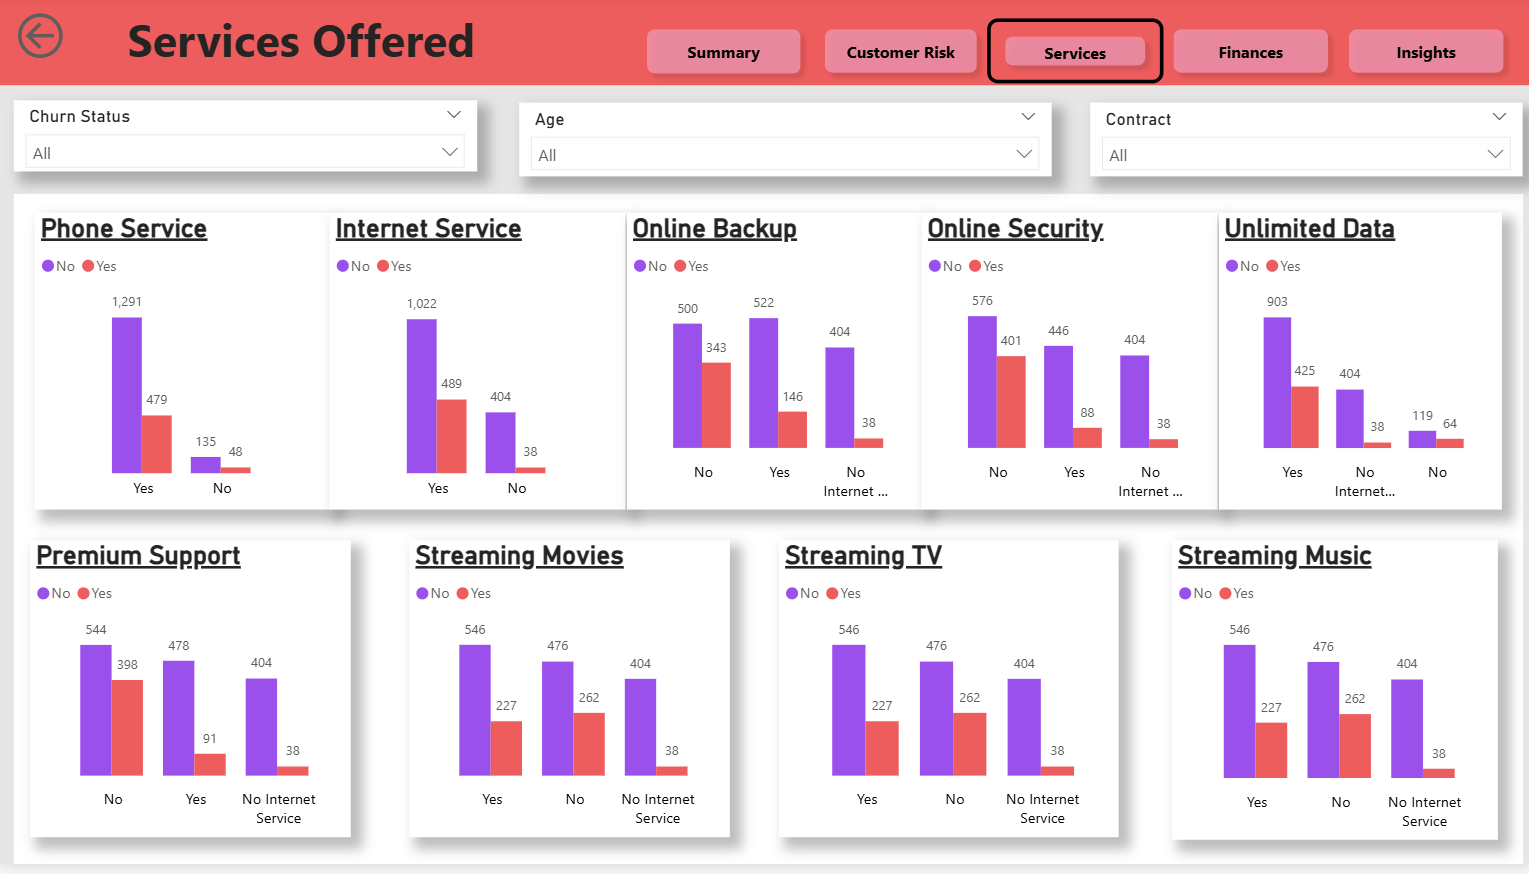

The dashboard page shown, as its layout file describes it:
{"tool":"powerbi","page":{"name":"Services","canvas":[1280,720],"ordinal":4},"visuals":[{"type":"shape","box":[15.5,165.2,1251.3,555.9],"z":0},{"type":"shape","box":[0,0,1280.4,74.9],"z":1000},{"type":"clusteredColumnChart","title":"Phone Service","fields":{"Category":["telecom cleaned_data.Phone_Service"],"Y":["Measures (2).Total Customer"],"Series":["telecom cleaned_data.Customer_Status"]},"box":[32.3,182.1,245.3,246.1],"z":2000,"group":"g1"},{"type":"clusteredColumnChart","title":"Premium Support","fields":{"Y":["Measures (2).Total Customer"],"Series":["telecom cleaned_data.Customer_Status"],"Category":["telecom cleaned_data.Premium_Support"]},"box":[29.5,451.1,265.9,246.2],"z":2000},{"type":"clusteredColumnChart","title":"Internet Service","fields":{"Category":["telecom cleaned_data.Internet_Service"],"Y":["Measures (2).Total Customer"],"Series":["telecom cleaned_data.Customer_Status"]},"box":[277.6,182.1,245.3,246.1],"z":3000,"group":"g1"},{"type":"clusteredColumnChart","title":"Streaming Movies","fields":{"Y":["Measures (2).Total Customer"],"Series":["telecom cleaned_data.Customer_Status"],"Category":["telecom cleaned_data.Streaming_Movies"]},"box":[342.8,451.1,265.9,246.2],"z":3000},{"type":"clusteredColumnChart","title":"Online Backup","fields":{"Category":["telecom cleaned_data.Online_Backup"],"Y":["Measures (2).Total Customer"],"Series":["telecom cleaned_data.Customer_Status"]},"box":[522.9,182.1,245.3,246.1],"z":4000,"group":"g1"},{"type":"clusteredColumnChart","title":"Streaming TV","fields":{"Y":["Measures (2).Total Customer"],"Series":["telecom cleaned_data.Customer_Status"],"Category":["telecom cleaned_data.Streaming_Movies"]},"box":[650.1,451.1,281.7,246.2],"z":4000},{"type":"slicer","fields":{"Values":["telecom cleaned_data.Customer_Status"]},"box":[15.8,86.7,384.1,59.1],"z":5000},{"type":"clusteredColumnChart","title":"Online Security","fields":{"Y":["Measures (2).Total Customer"],"Series":["telecom cleaned_data.Customer_Status"],"Category":["telecom cleaned_data.Online_Security"]},"box":[768.2,182.1,245.3,246.1],"z":5000,"group":"g1"},{"type":"actionButton","box":[13.3,10,51.7,48.3],"z":6000},{"type":"clusteredColumnChart","title":"Unlimited Data","fields":{"Y":["Measures (2).Total Customer"],"Series":["telecom cleaned_data.Customer_Status"],"Category":["telecom cleaned_data.Unlimited_Data"]},"box":[1013.3,181.2,234.4,246.2],"z":6000,"group":"g1"},{"type":"textbox","box":[104.4,5.9,403.8,72.9],"z":7000},{"type":"clusteredColumnChart","title":"Streaming Music","fields":{"Y":["Measures (2).Total Customer"],"Series":["telecom cleaned_data.Customer_Status"],"Category":["telecom cleaned_data.Streaming_Movies"]},"box":[975.1,451.1,269.9,248.2],"z":8000},{"type":"group","id":"g1","title":"Group 1","box":[32.3,181.2,1215.4,247.1],"z":9000},{"type":"slicer","fields":{"Values":["telecom cleaned_data.Age"]},"box":[435.3,88.6,441.3,61.1],"z":10000},{"type":"slicer","fields":{"Values":["telecom cleaned_data.Contract"]},"box":[908.1,88.6,358.5,61.1],"z":11000},{"type":"actionButton","box":[532,19,145.2,54.7],"z":12000},{"type":"actionButton","box":[678,20,144,54],"z":13000},{"type":"actionButton","box":[822,20,146,54],"z":14000},{"type":"actionButton","box":[1114,20,146,54],"z":15000},{"type":"actionButton","box":[968,20,146,54],"z":16000}]}

Visuals, with their boxes in screenshot pixels (x1, y1, x2, y2), scaled from the page's 1280x720 canvas onto the 1529x874 screenshot:
shape: [x1=19, y1=201, x2=1513, y2=873]
shape: [x1=0, y1=0, x2=1528, y2=91]
"Phone Service" clusteredColumnChart: [x1=39, y1=221, x2=332, y2=520]
"Premium Support" clusteredColumnChart: [x1=35, y1=548, x2=353, y2=846]
"Internet Service" clusteredColumnChart: [x1=332, y1=221, x2=625, y2=520]
"Streaming Movies" clusteredColumnChart: [x1=409, y1=548, x2=727, y2=846]
"Online Backup" clusteredColumnChart: [x1=625, y1=221, x2=918, y2=520]
"Streaming TV" clusteredColumnChart: [x1=777, y1=548, x2=1113, y2=846]
slicer - telecom cleaned_data.Customer_Status: [x1=19, y1=105, x2=478, y2=177]
"Online Security" clusteredColumnChart: [x1=918, y1=221, x2=1211, y2=520]
actionButton: [x1=16, y1=12, x2=78, y2=71]
"Unlimited Data" clusteredColumnChart: [x1=1210, y1=220, x2=1490, y2=519]
textbox: [x1=125, y1=7, x2=607, y2=96]
"Streaming Music" clusteredColumnChart: [x1=1165, y1=548, x2=1487, y2=849]
"Group 1" group: [x1=39, y1=220, x2=1490, y2=520]
slicer - telecom cleaned_data.Age: [x1=520, y1=108, x2=1047, y2=182]
slicer - telecom cleaned_data.Contract: [x1=1085, y1=108, x2=1513, y2=182]
actionButton: [x1=635, y1=23, x2=809, y2=89]
actionButton: [x1=810, y1=24, x2=982, y2=90]
actionButton: [x1=982, y1=24, x2=1156, y2=90]
actionButton: [x1=1331, y1=24, x2=1505, y2=90]
actionButton: [x1=1156, y1=24, x2=1331, y2=90]
